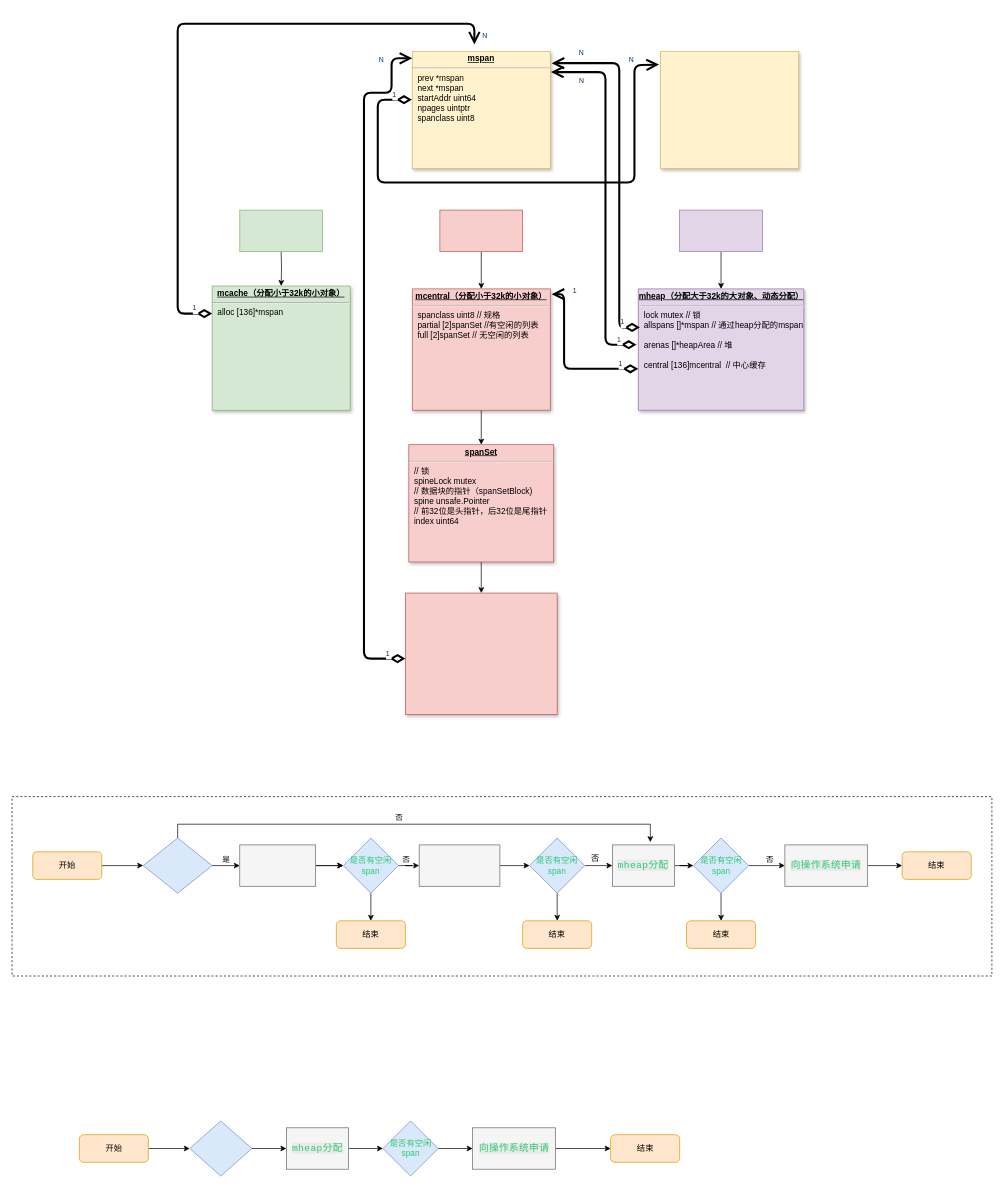
This 1004x1188 diagram has some shape labels left out. The centre of each missing label's shape, as x and y in pixels:
"mcache分配" goes at point (277, 865).
"mcentral分配" goes at point (459, 865).
"page object1object2 object3 object4..." goes at point (730, 111).
"spanSetBlock spans [512]*mspan" goes at point (481, 654).
"中心缓存" goes at point (481, 230).
"变量是否小于32KB" goes at point (177, 865).
"变量是否被外部引用" goes at point (220, 1148).
"线程缓存" goes at point (281, 230).
"页堆" goes at point (720, 230).
